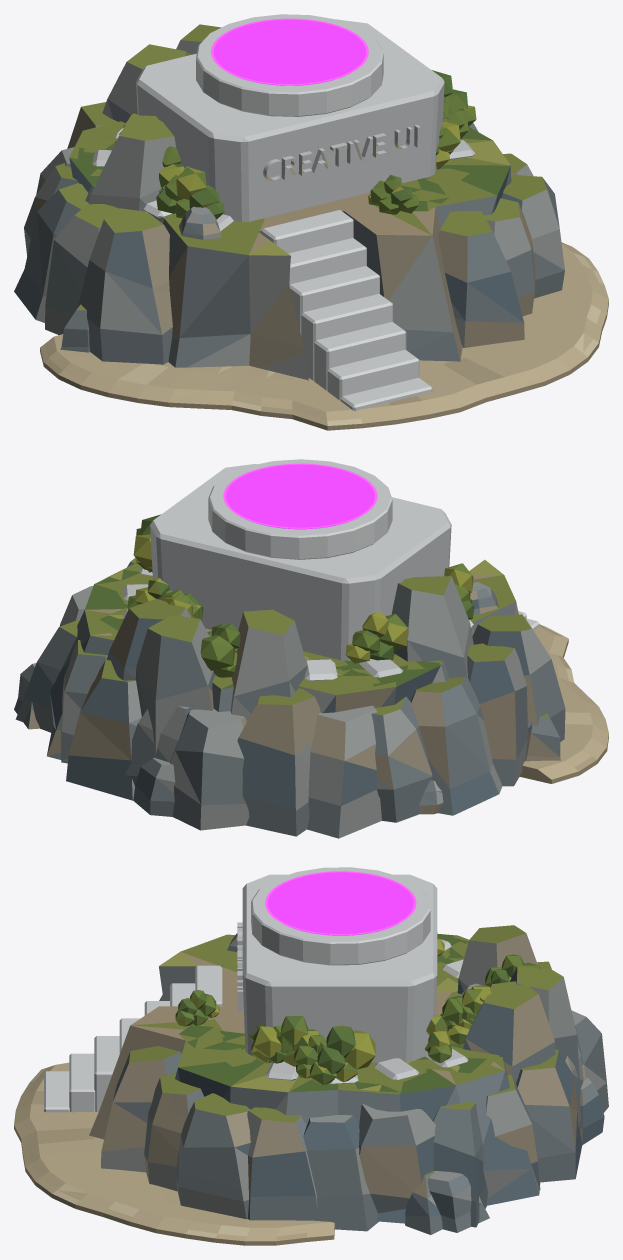
Rendered from prism.glb.
3 renders of one model, top to bottom at view 1: azimuth 30°, elevation 25°; view 2: azimuth 150°, elevation 25°; view 3: azimuth 270°, elevation 25°, orthographic. The views are drawn at different scales.
Parts seen in each view (by area): view 1: Static_Creative, Glow_Creative_Inset, Glow_Creative_Rim; view 2: Static_Creative, Glow_Creative_Inset, Glow_Creative_Rim; view 3: Static_Creative, Glow_Creative_Inset, Glow_Creative_Rim.
Part boxes in pixels (x1,y1,x2,y2): Static_Creative: (14, 14, 608, 430); Glow_Creative_Inset: (213, 19, 365, 85); Glow_Creative_Rim: (211, 18, 368, 85); Static_Creative: (14, 459, 608, 838); Glow_Creative_Inset: (226, 464, 374, 529); Glow_Creative_Rim: (223, 463, 377, 528); Static_Creative: (14, 867, 608, 1245); Glow_Creative_Inset: (268, 872, 413, 935); Glow_Creative_Rim: (265, 871, 416, 935).
Bounding box in the file's own units: 6.58 × 2.87 × 6.85.
